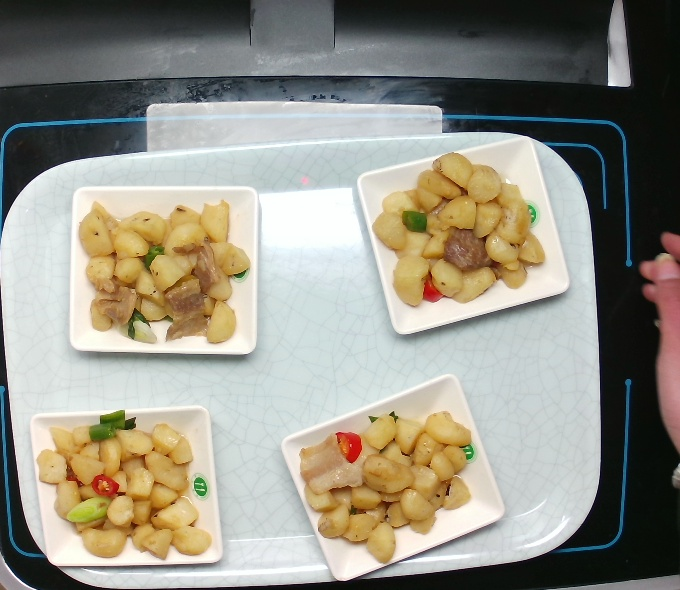wcq-MaTiGuoChaoRou: (281, 404, 478, 567), (364, 148, 554, 313), (31, 411, 224, 563), (74, 192, 249, 348)
